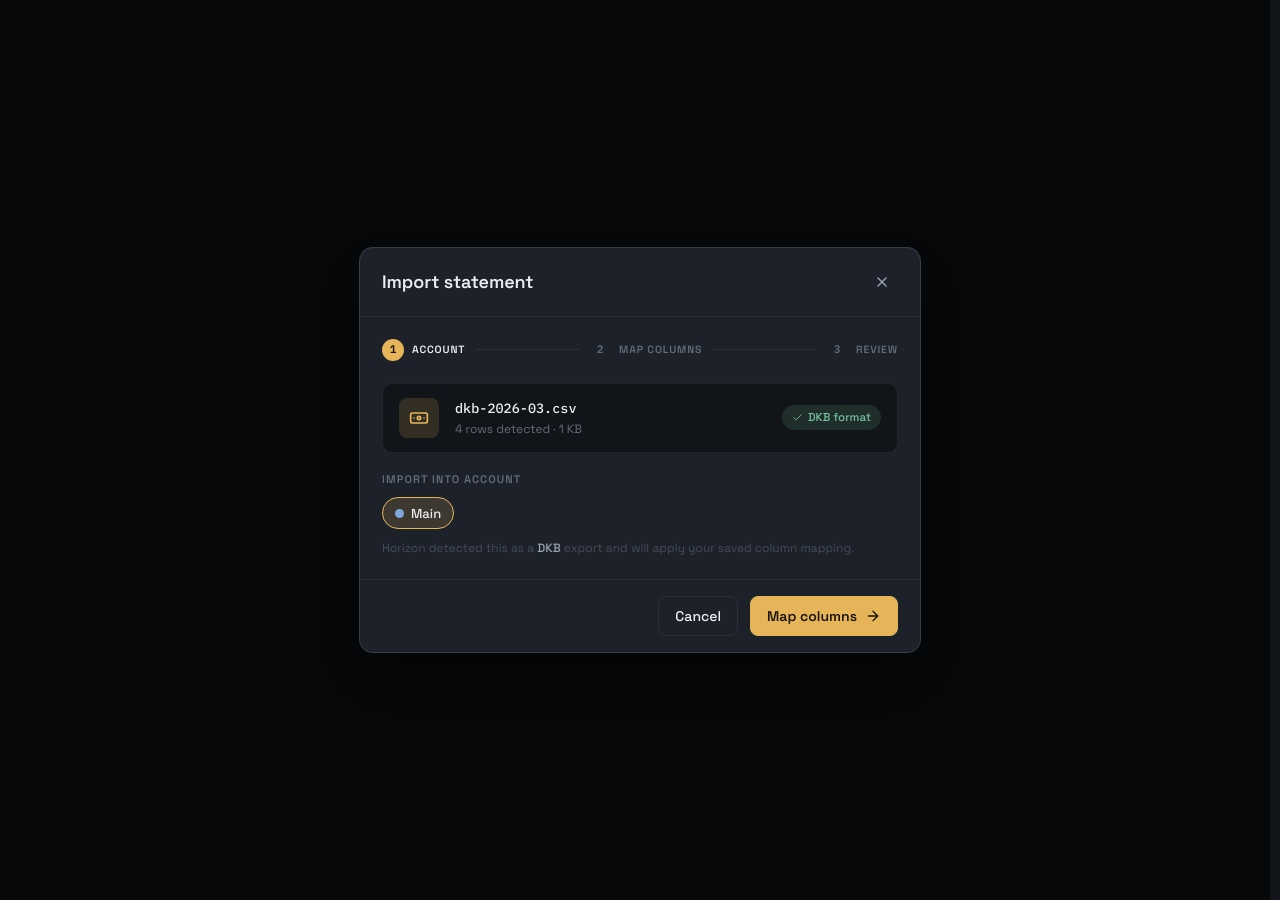
Test: ImportWizard — blocked-rows pill and Needs attention filter (#193) › shows a pill counting the included blocked rows beside the Import button
Click the button "Map columns" at (824, 616), box [750,596,898,636]
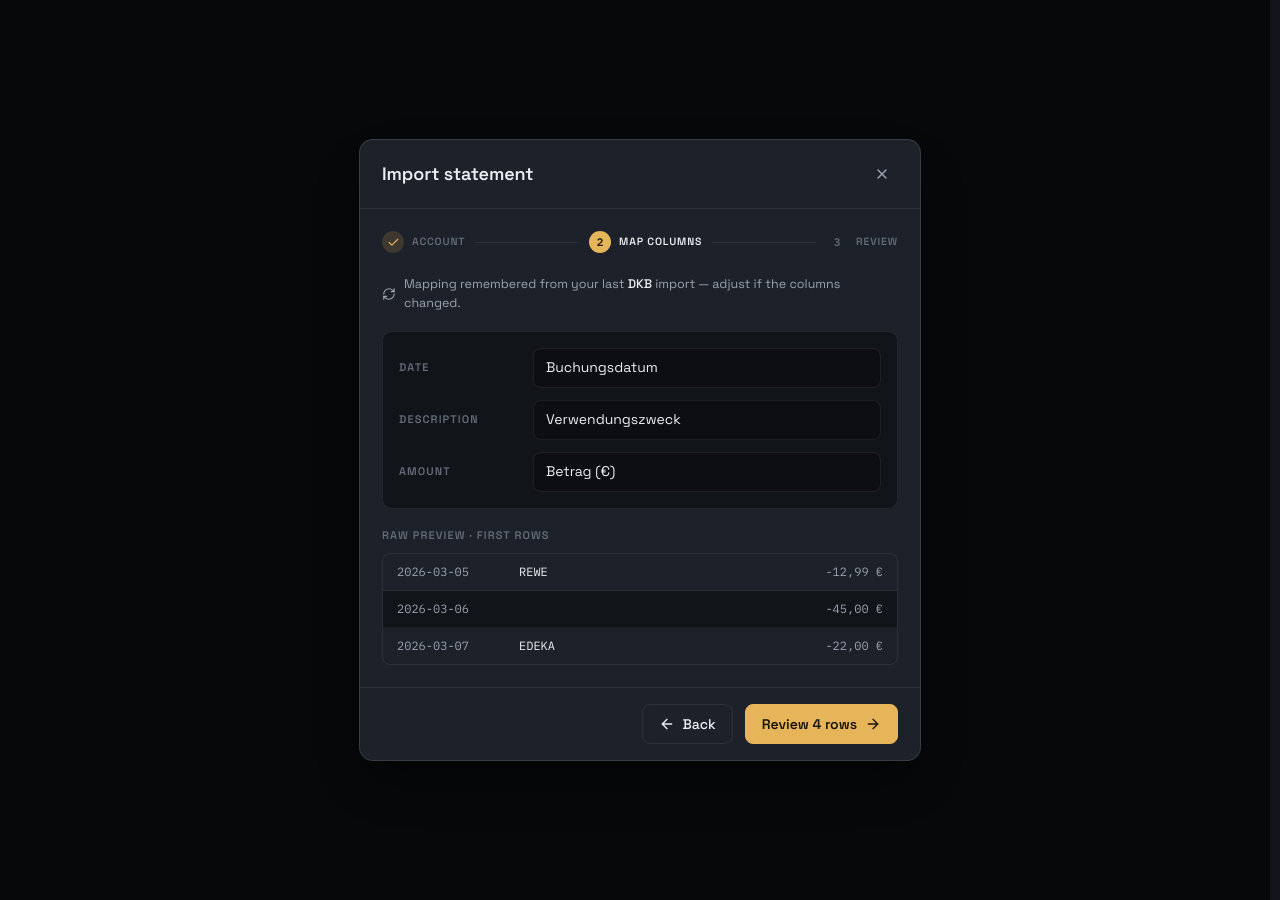
Click the button "Review 4 rows" at (821, 724), box [745,704,898,744]
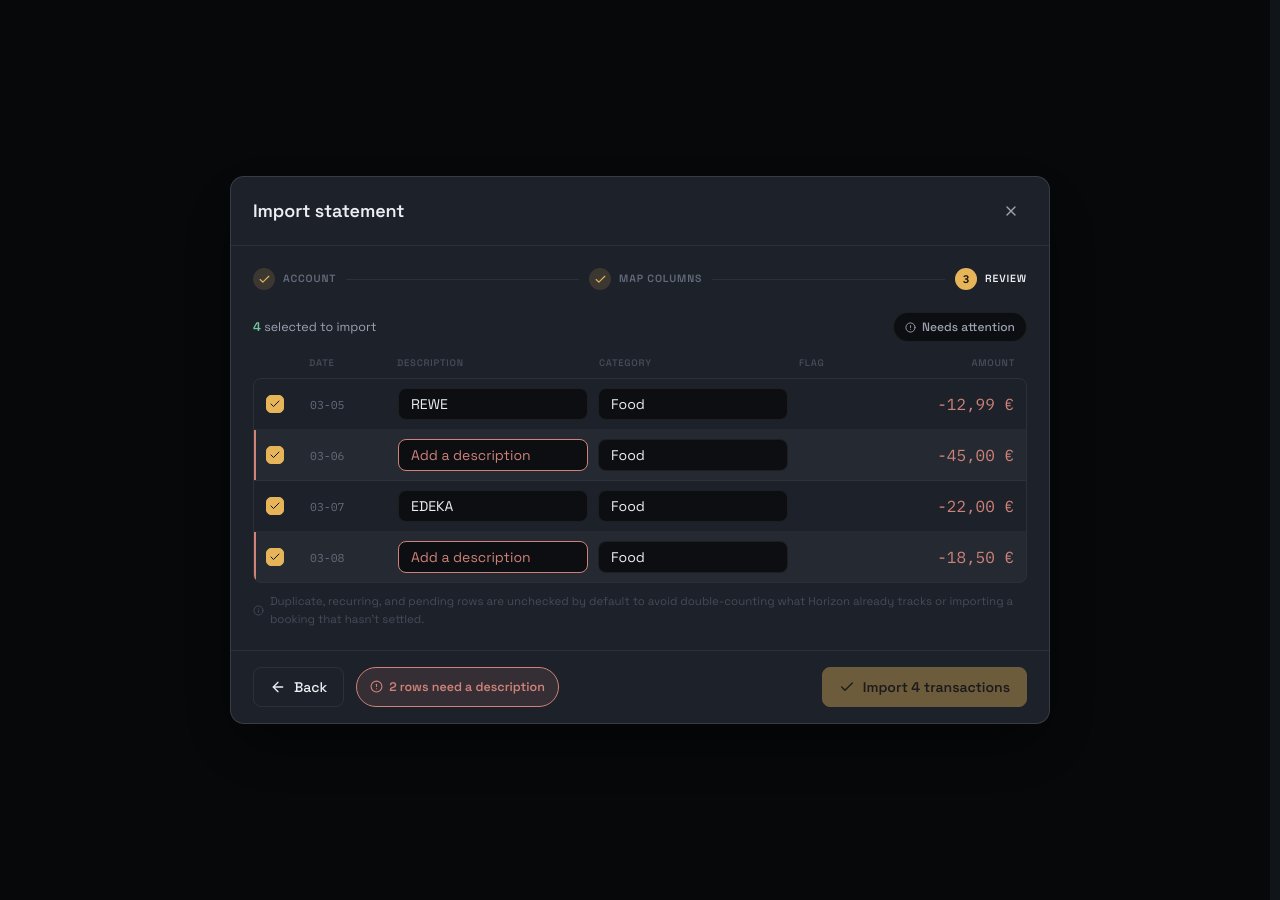
Result: the button "2 rows need a description" is shown at [356,667,559,707]
Result: the button "Import 4 transactions" is disabled at [822,667,1027,707]
